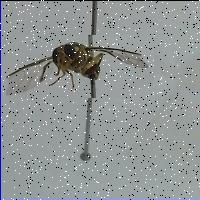Oriental-fruit-fly: (6, 34, 154, 97)
